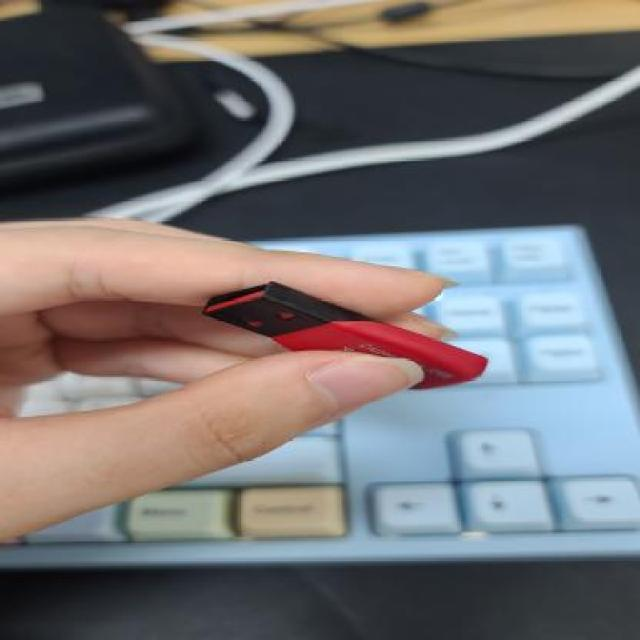Flashdisk: (199, 280, 490, 392)
